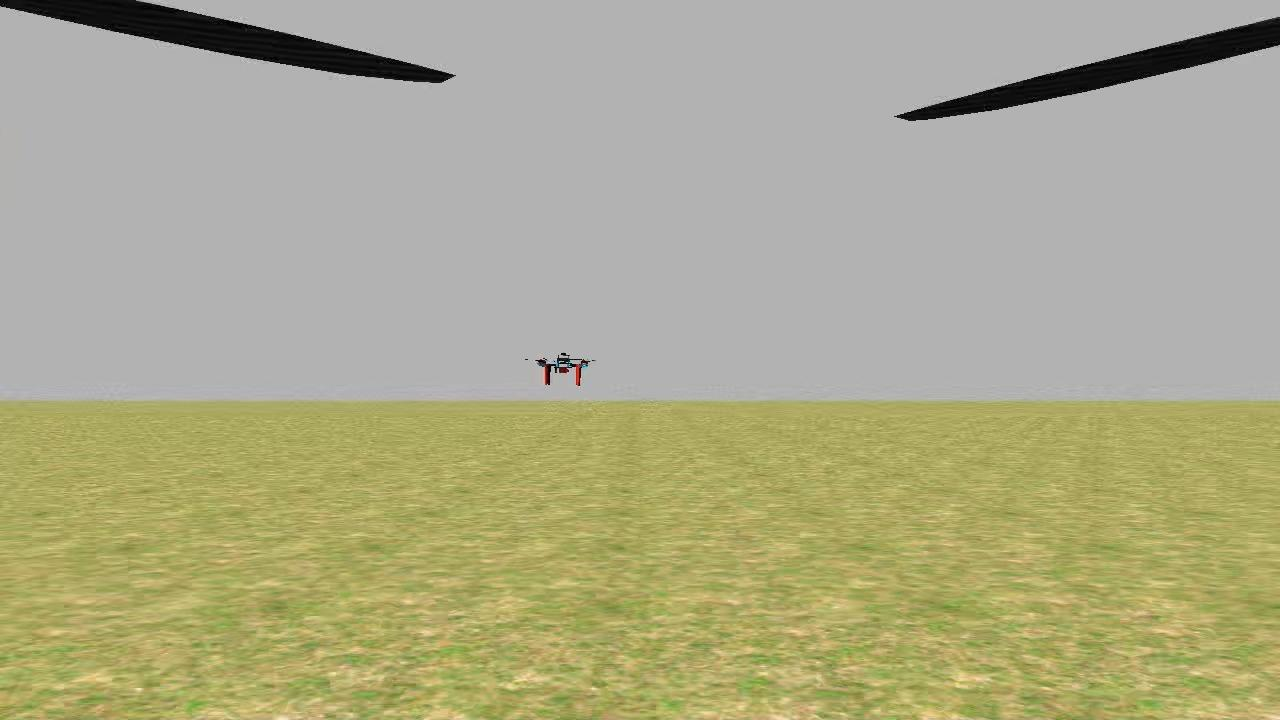UAV: (529, 340, 594, 391)
